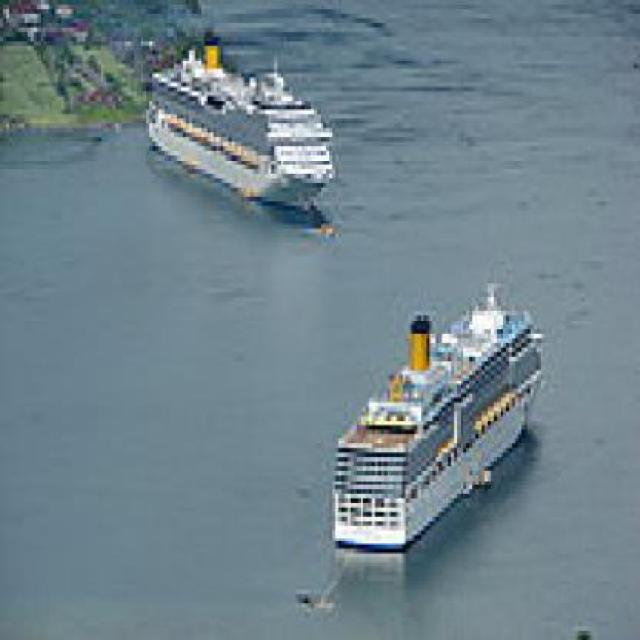cruise: (333, 271, 556, 573), (139, 19, 351, 230)
